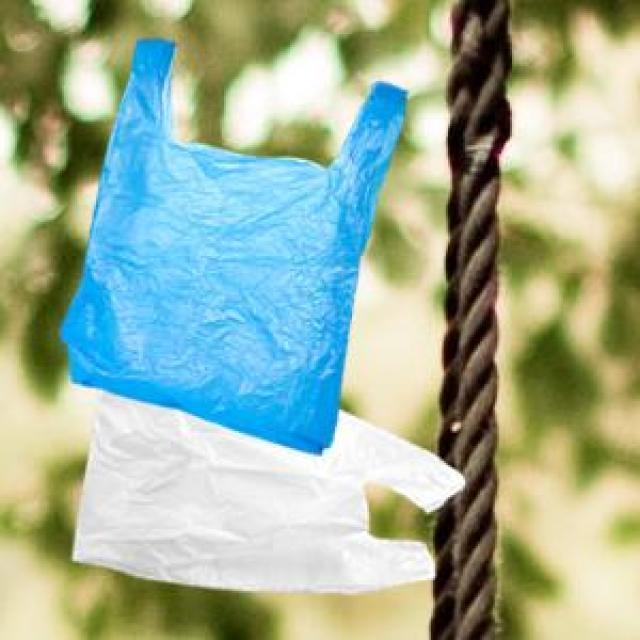waste: (62, 40, 464, 592)
